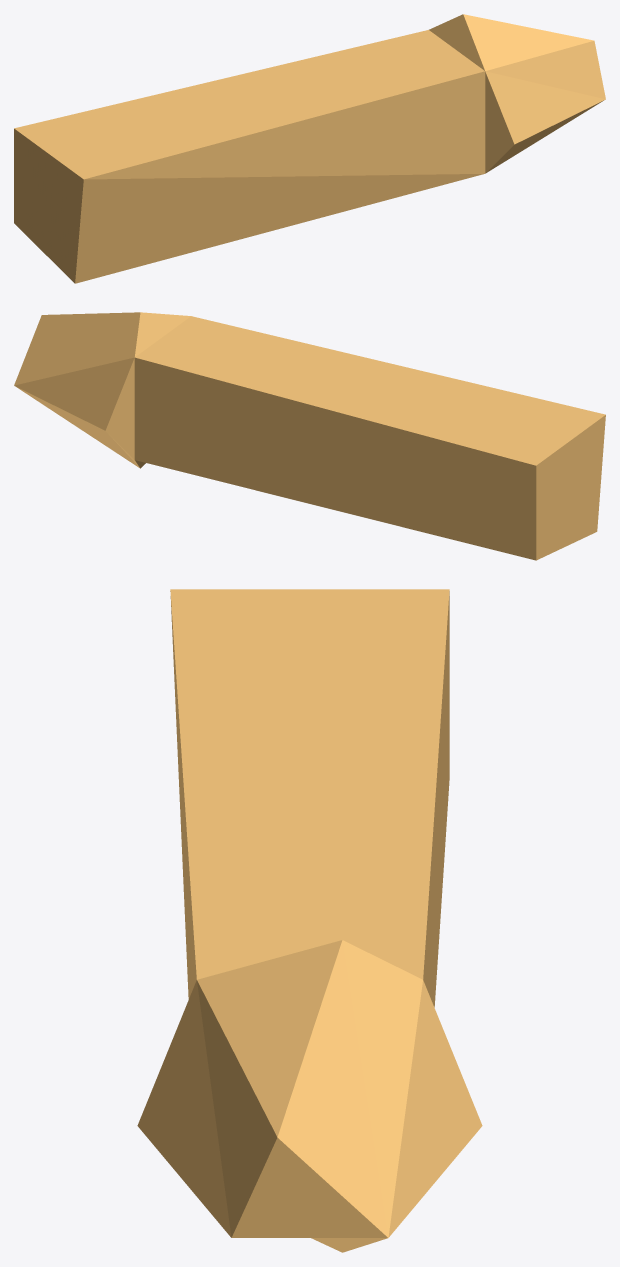
File: tracer.lod2.glb
The picture shows the model from 3 angles, top to bottom: view 1: azimuth 30°, elevation 25°; view 2: azimuth 150°, elevation 25°; view 3: azimuth 270°, elevation 25°; orthographic projection. The views are drawn at different scales.
Bounding box in the file's own units: 0.5334 × 0.1483 × 0.1483.
